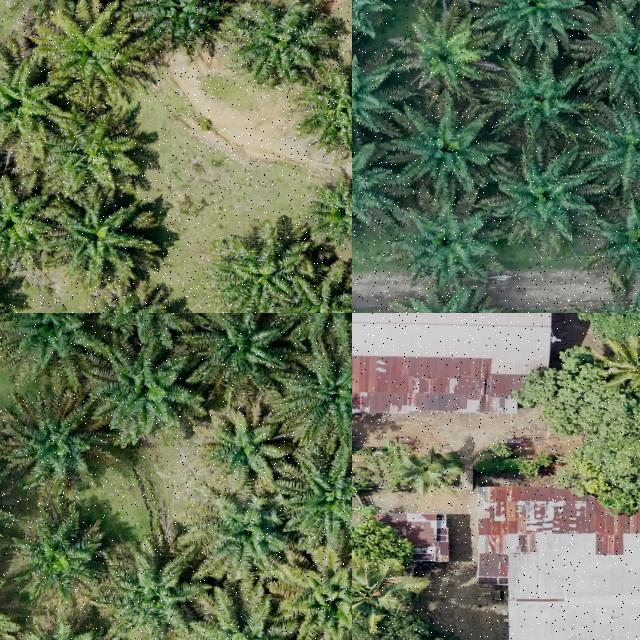Ganoderma: (406, 24, 479, 84)
